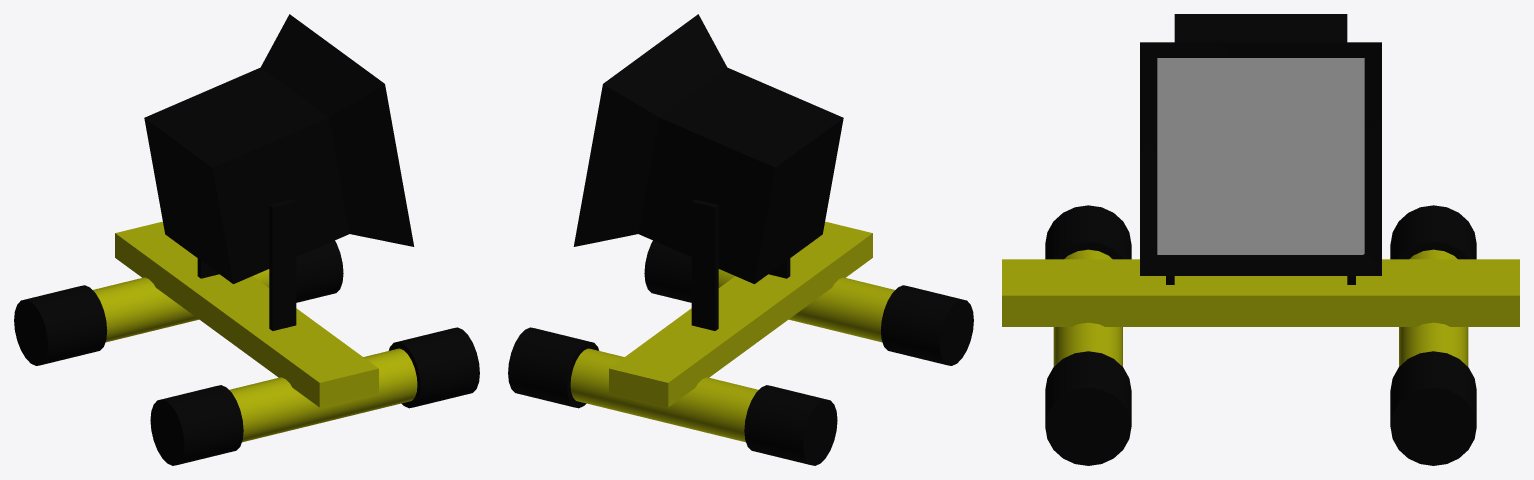
The model's file is Light(1).fbx.
3 views of the same model, side by side, from view 1: azimuth 30°, elevation 25°; view 2: azimuth 150°, elevation 25°; view 3: azimuth 270°, elevation 25° (orthographic). The views are drawn at different scales.
Parts seen in each view (by area): view 1: pCube2, pCube3, pCube6; view 2: pCube2, pCube3, pCube6; view 3: pCube2, pCube7, pCube3.
Boxes of the visible parts, x1,y1,x2,y2 form: pCube2: [14, 221, 479, 465]; pCube3: [144, 14, 414, 283]; pCube6: [197, 199, 296, 330]; pCube2: [508, 221, 973, 465]; pCube3: [573, 14, 843, 283]; pCube6: [691, 199, 790, 330]; pCube2: [1002, 205, 1519, 465]; pCube7: [1157, 58, 1363, 254]; pCube3: [1140, 14, 1381, 275].
Size of the model in its own units: 2.5 by 2.48 by 3.
